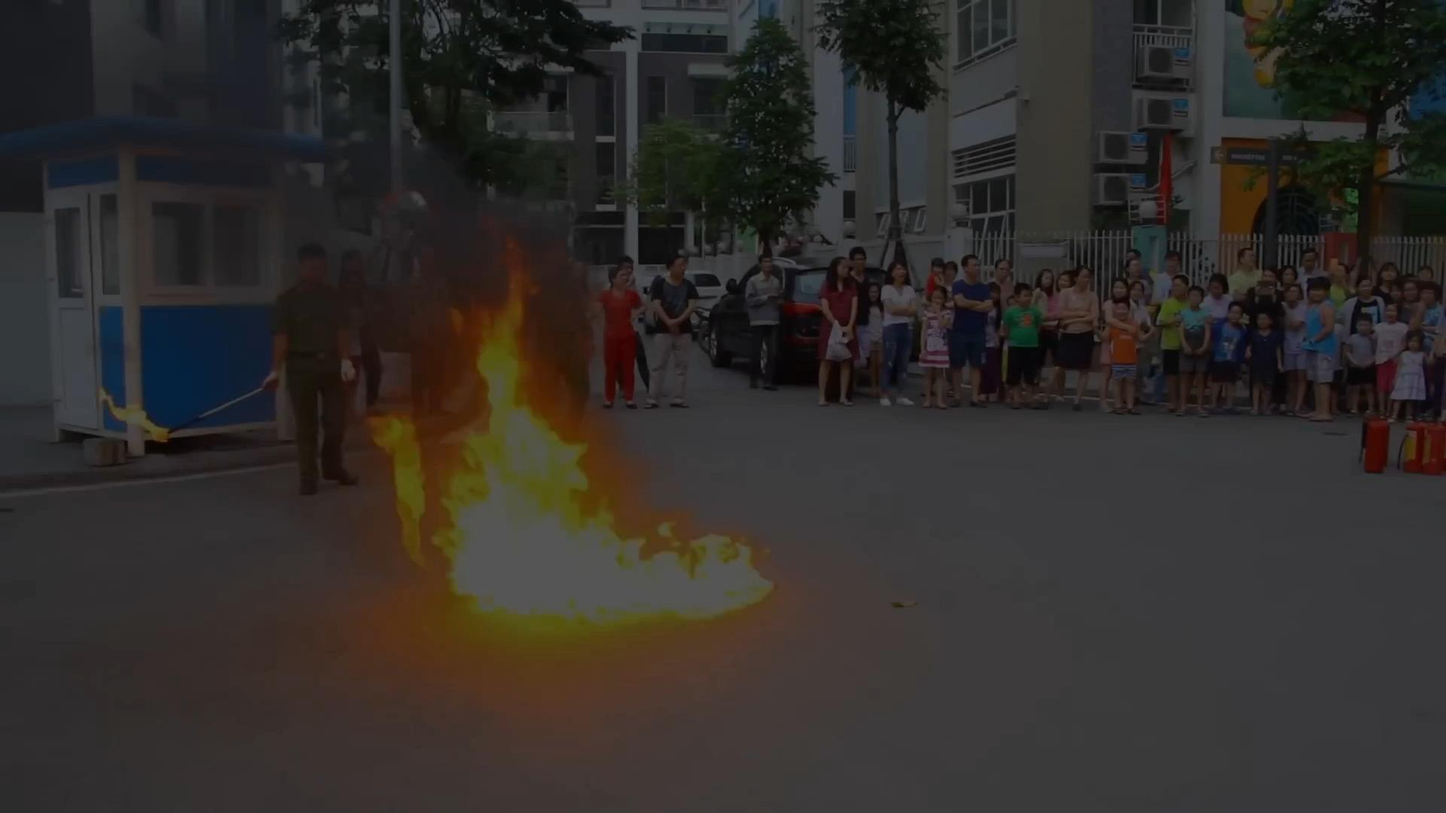FireExtinguisher: (1401, 411, 1446, 482), (1358, 407, 1395, 482)
